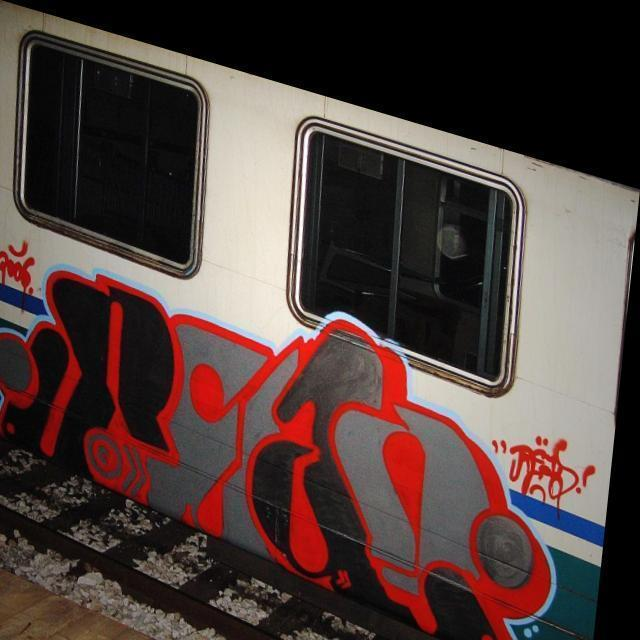nonspitting: (0, 259, 557, 640), (491, 430, 601, 510), (0, 237, 36, 293)
